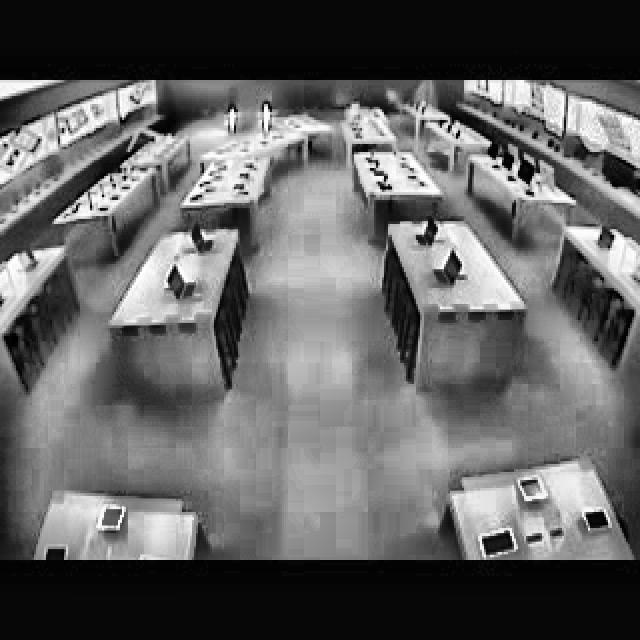burglary: (183, 79, 301, 154)
